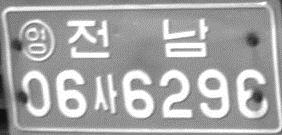0: (21, 69, 51, 118)
2: (159, 69, 192, 118)
6: (54, 68, 87, 119), (235, 68, 268, 119), (121, 69, 154, 119)
9: (196, 68, 230, 119)
사: (91, 73, 118, 114)
영: (17, 18, 55, 62)
전남_D: (65, 17, 209, 60)
